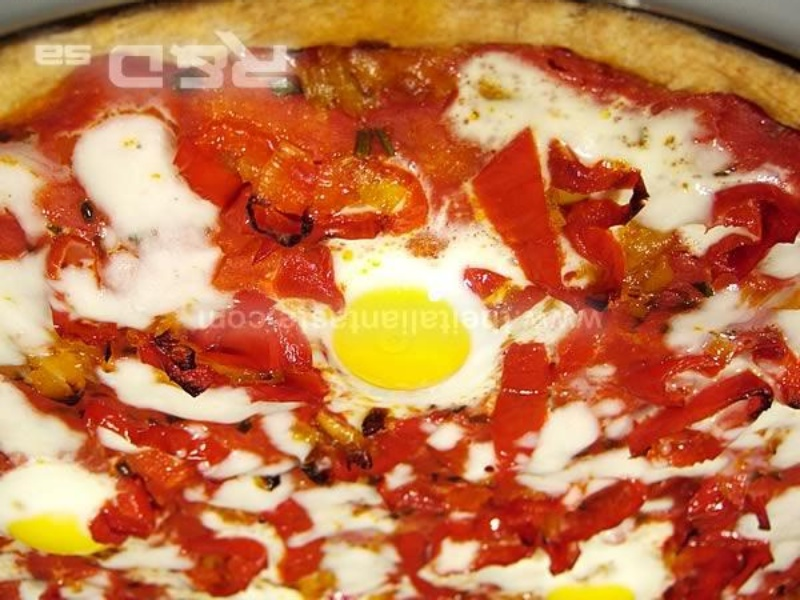oeuf: (328, 281, 475, 404)
